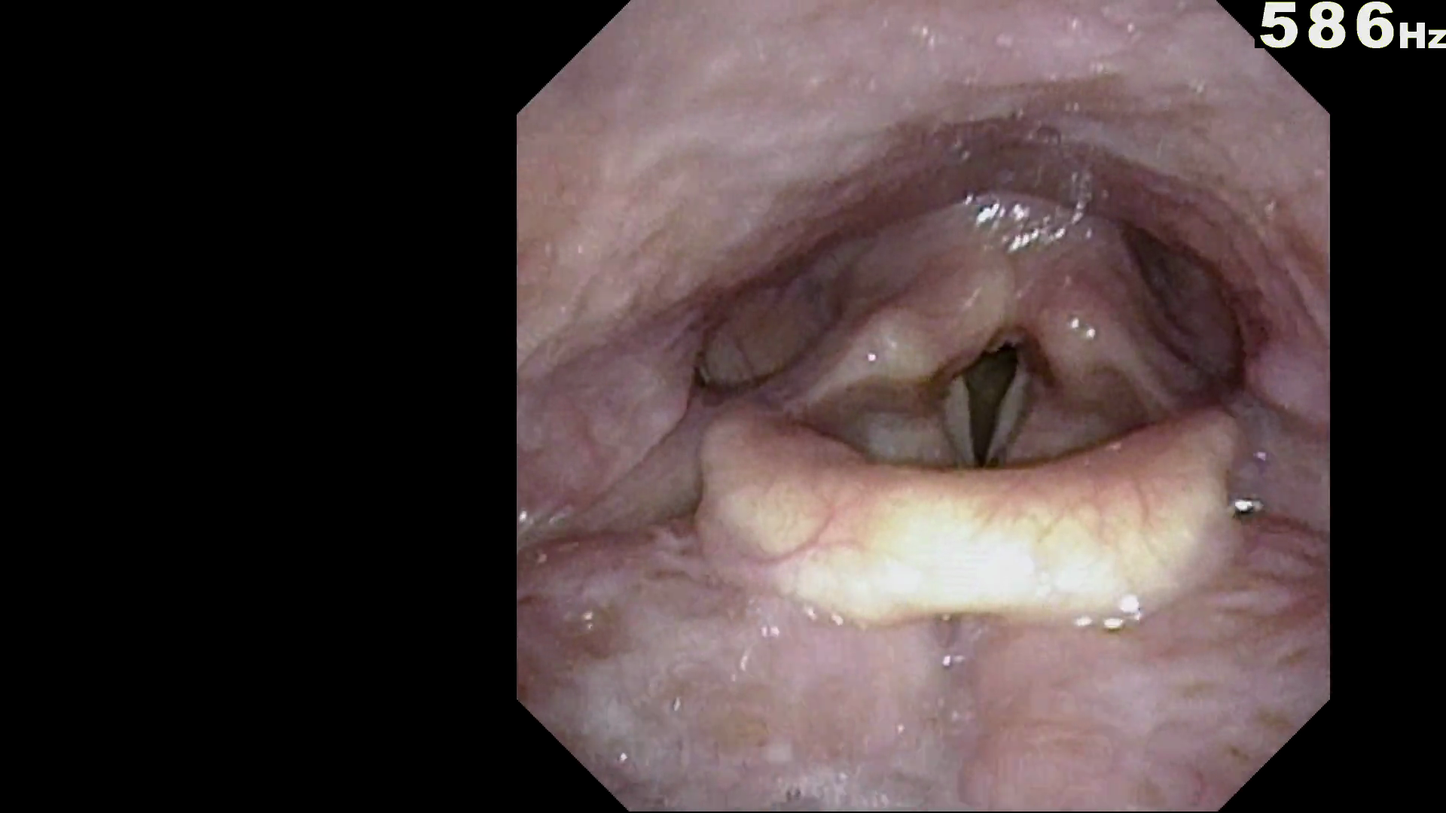epiglottis: (732, 430, 1216, 618)
trachea: (911, 310, 1084, 525)
